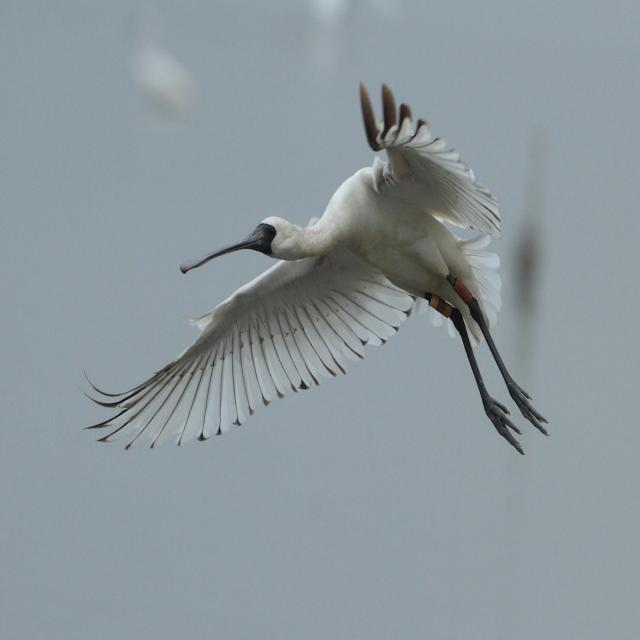Black-faced spoonbill: (90, 85, 546, 452)
